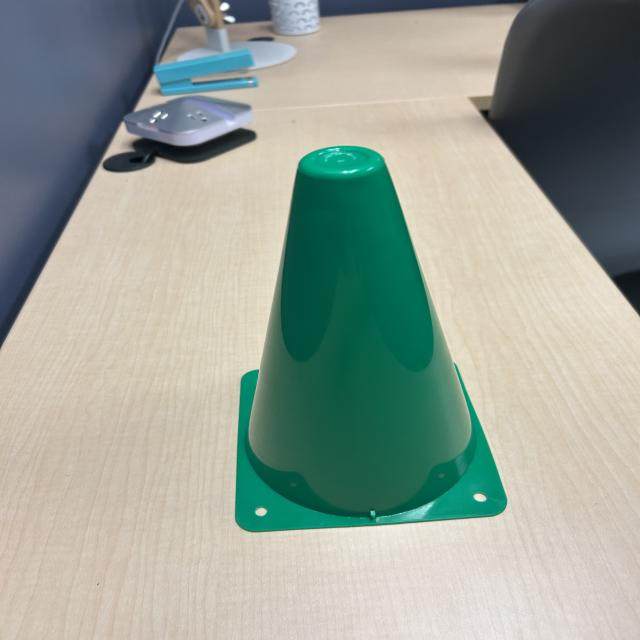green cone: (229, 141, 511, 539)
